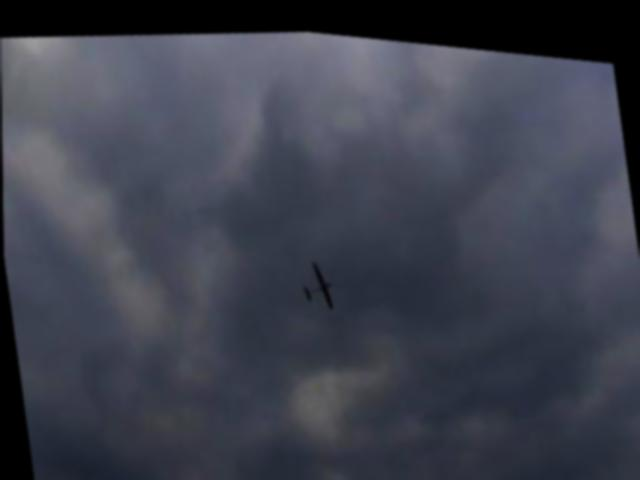uav: (297, 243, 341, 313)
